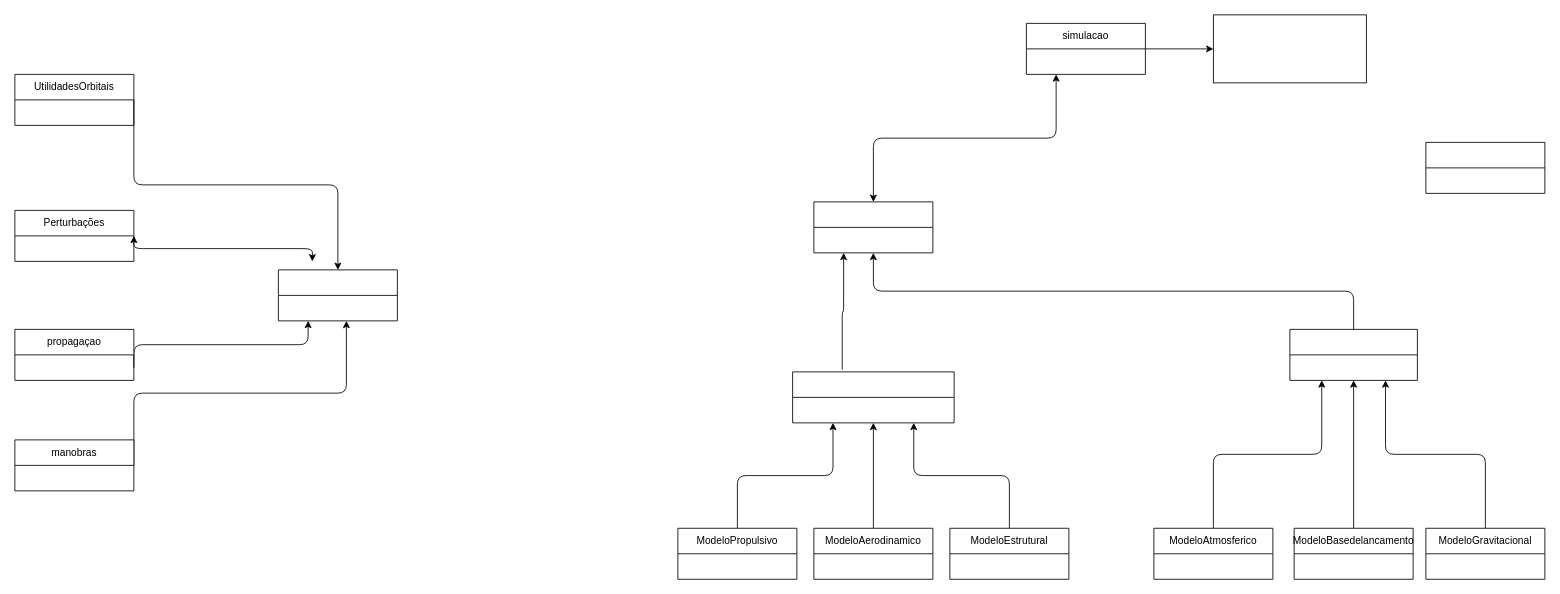
Some shapes in this 1560 by 594 pixel diagram are drawn without their labels. Each missing label, with the box of its shape:
dinamica_foguete: (813, 201, 933, 253)
ModeloFoguete: (792, 371, 954, 423)
ModeloOrbita: (278, 269, 397, 321)
ModeloPlaneta: (1289, 329, 1417, 380)
resultados: (1425, 142, 1545, 193)
vetor tempo vetor de estados: (1213, 14, 1366, 83)
